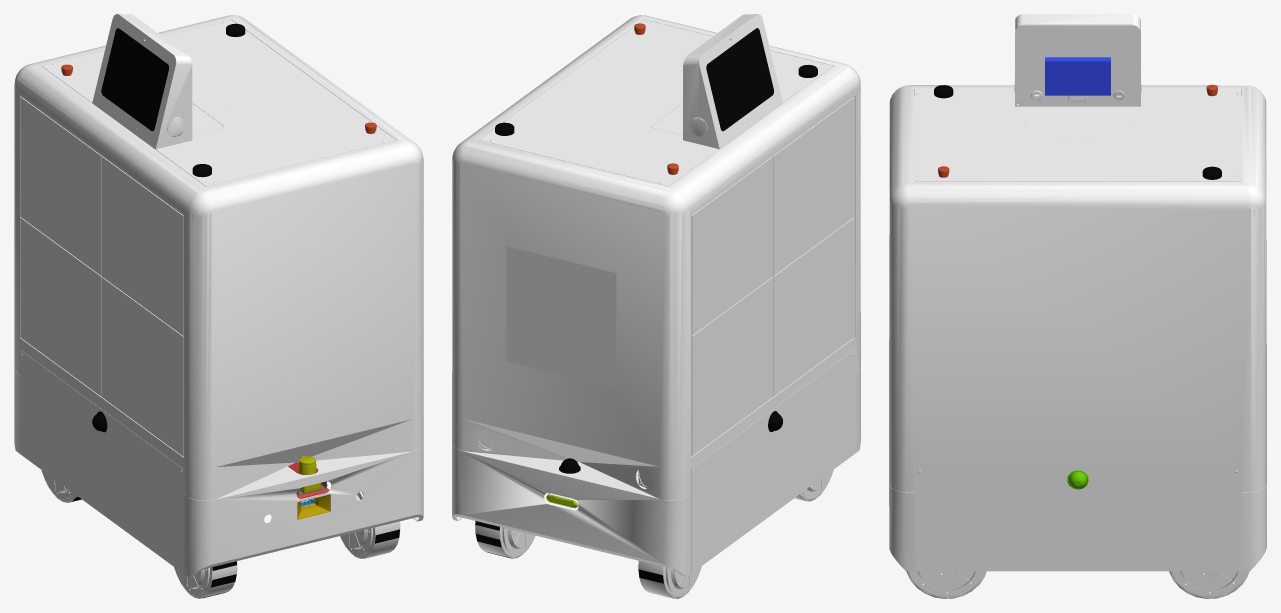
File: medicine.glb
The picture shows the model from 3 angles, left to right: view 1: azimuth 30°, elevation 25°; view 2: azimuth 150°, elevation 25°; view 3: azimuth 270°, elevation 25°; orthographic projection.
Visible parts, largest first — view 1: medicine; view 2: medicine; view 3: medicine.
Part boxes in pixels (x1,y1,x2,y2): medicine: (14,14,423,598); medicine: (452,14,860,598); medicine: (889,14,1266,598).
Bounding box in the file's own units: 0.6822 × 1.33 × 0.9.
38 materials, 1 textured.
